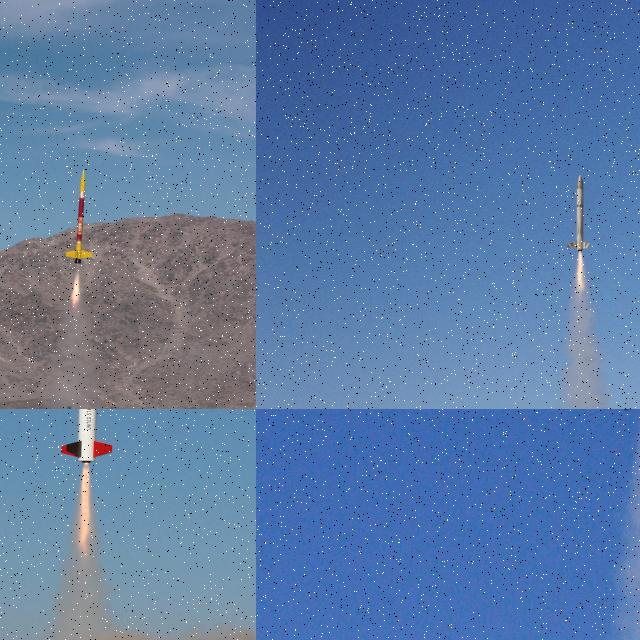Rocket: (59, 409, 114, 464), (65, 169, 93, 264), (566, 174, 591, 252)
